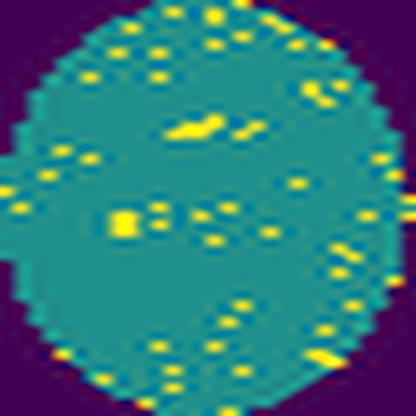Loc: (158, 113, 226, 141), (106, 206, 140, 239)
